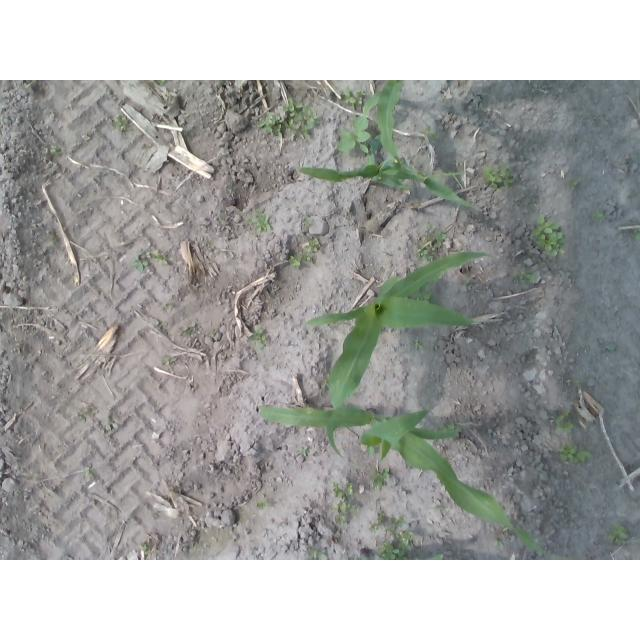Maize: (257, 404, 583, 561), (307, 247, 499, 472), (297, 81, 484, 212), (348, 546, 443, 560)
Weeds: (258, 99, 321, 141), (530, 215, 566, 257), (337, 115, 372, 154), (415, 221, 447, 263), (332, 482, 357, 527), (378, 532, 414, 561), (481, 164, 515, 188), (132, 249, 168, 271), (370, 512, 404, 532), (244, 210, 271, 235), (407, 282, 437, 304), (558, 442, 590, 462), (342, 86, 367, 110), (606, 523, 628, 547), (551, 411, 573, 434), (288, 253, 313, 272), (370, 468, 390, 491), (251, 327, 270, 349), (512, 268, 536, 284), (419, 124, 438, 144), (115, 114, 134, 133), (493, 526, 508, 549), (437, 422, 462, 434), (102, 413, 118, 429), (303, 237, 320, 252), (180, 322, 196, 335), (309, 550, 328, 559), (45, 145, 61, 155), (566, 178, 579, 190), (320, 373, 330, 388), (410, 339, 423, 350), (255, 499, 269, 509), (593, 211, 604, 222), (302, 214, 312, 226), (632, 227, 640, 242), (603, 343, 617, 351), (298, 445, 308, 456), (463, 275, 472, 286), (366, 445, 375, 456), (163, 358, 177, 365), (571, 379, 581, 388), (140, 544, 148, 553), (76, 414, 84, 422), (84, 470, 92, 477), (525, 199, 532, 206), (210, 328, 217, 335), (155, 80, 166, 84), (165, 303, 172, 309), (53, 237, 59, 243)
